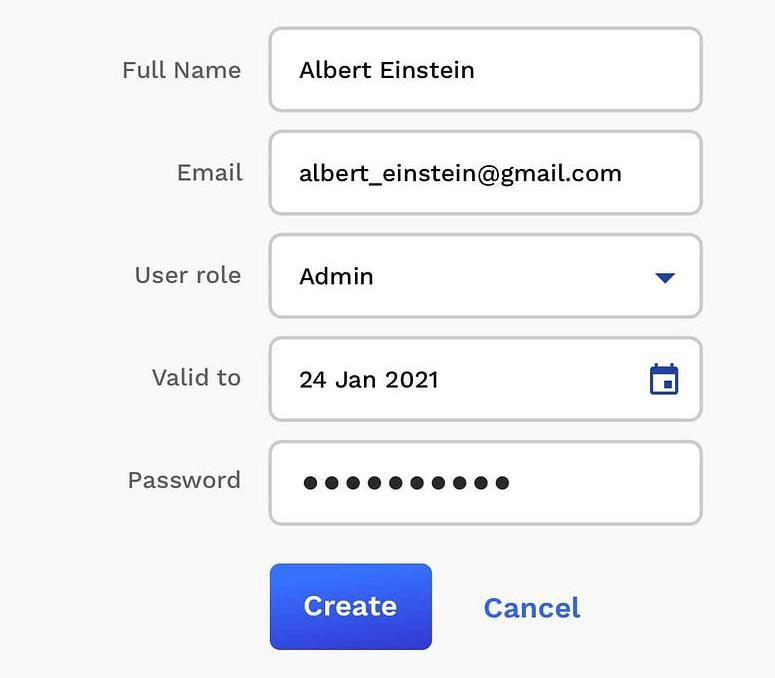button: (267, 562, 437, 654)
dropdown: (266, 232, 705, 322)
input: (271, 337, 702, 424), (270, 28, 704, 113), (269, 440, 702, 524), (269, 132, 703, 214)
label: (125, 468, 244, 495), (122, 56, 244, 81), (130, 262, 247, 288), (483, 597, 587, 623), (148, 367, 246, 392), (175, 160, 247, 186)
